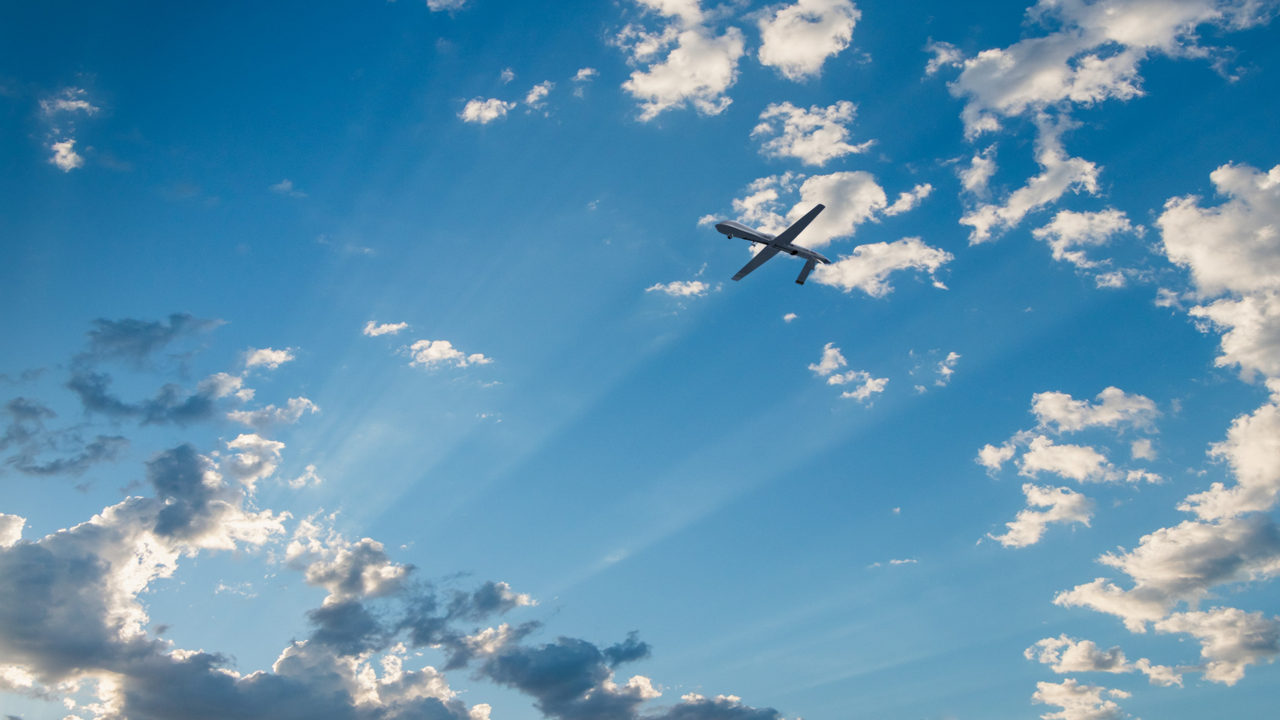military drone: (715, 203, 831, 285)
